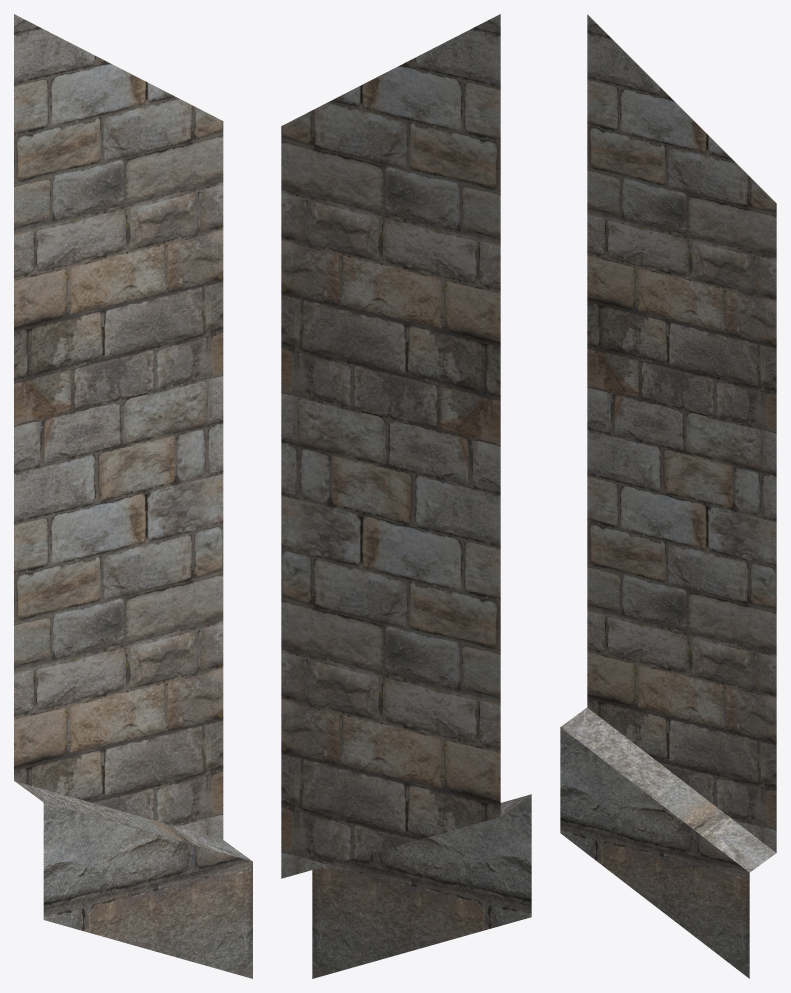
File: WallDown.obj
3 renders of one model, left to right at view 1: azimuth 30°, elevation 25°; view 2: azimuth 150°, elevation 25°; view 3: azimuth 330°, elevation 25°, orthographic. The views are drawn at different scales.
Bounding box in the file's own units: 50 × 227 × 12.29.
Materials: 2 (2 with a texture image).
